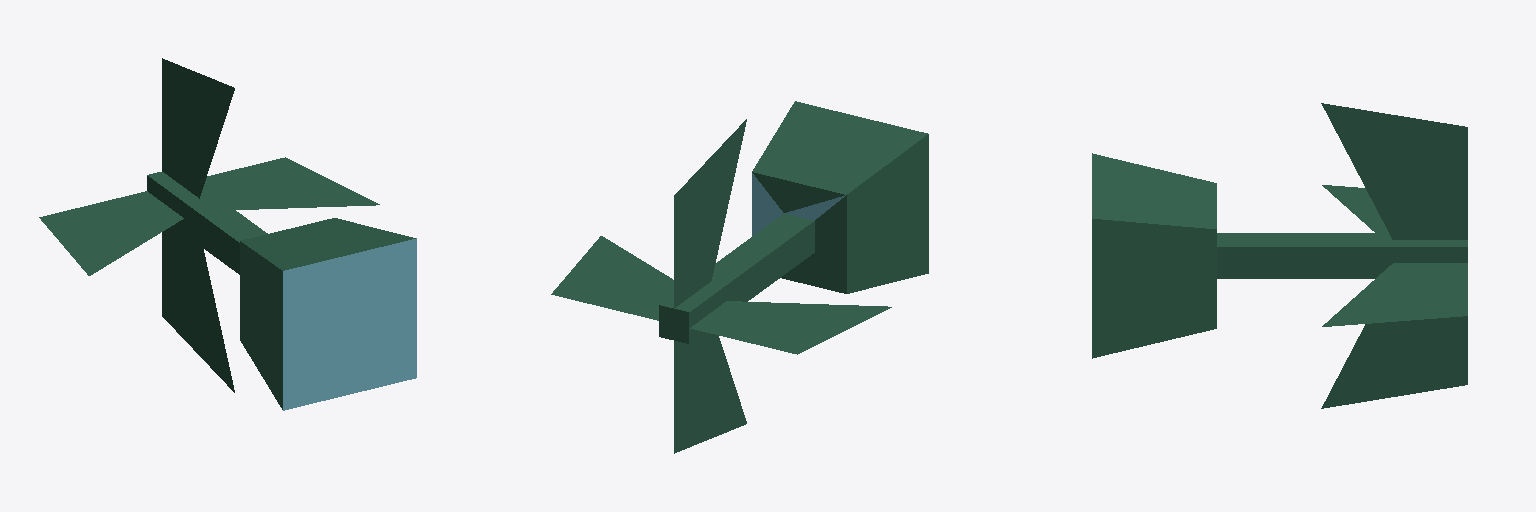
The model's file is flower5.obj.
The picture shows the model from 3 angles: view 1: azimuth 30°, elevation 25°; view 2: azimuth 150°, elevation 25°; view 3: azimuth 270°, elevation 25°; orthographic projection.
Visible parts, largest first — view 1: Mesh1_Flower_Tall_Yellow_Model, Mesh5_Flower_Tall_Yellow_Model, Mesh4_Flower_Tall_Yellow_Model, Mesh2_Flower_Tall_Yellow_Model, Mesh3_Flower_Tall_Yellow_Model; view 2: Mesh1_Flower_Tall_Yellow_Model, Mesh5_Flower_Tall_Yellow_Model, Mesh4_Flower_Tall_Yellow_Model, Mesh2_Flower_Tall_Yellow_Model, Mesh3_Flower_Tall_Yellow_Model; view 3: Mesh1_Flower_Tall_Yellow_Model, Mesh5_Flower_Tall_Yellow_Model, Mesh2_Flower_Tall_Yellow_Model, Mesh3_Flower_Tall_Yellow_Model, Mesh4_Flower_Tall_Yellow_Model.
Part boxes in pixels (x1,y1,x2,y2): Mesh1_Flower_Tall_Yellow_Model: (147, 172, 416, 410); Mesh5_Flower_Tall_Yellow_Model: (162, 58, 234, 198); Mesh4_Flower_Tall_Yellow_Model: (39, 191, 183, 275); Mesh2_Flower_Tall_Yellow_Model: (162, 226, 234, 392); Mesh3_Flower_Tall_Yellow_Model: (204, 157, 379, 209); Mesh1_Flower_Tall_Yellow_Model: (659, 101, 928, 343); Mesh5_Flower_Tall_Yellow_Model: (674, 119, 746, 307); Mesh4_Flower_Tall_Yellow_Model: (690, 301, 891, 354); Mesh2_Flower_Tall_Yellow_Model: (674, 333, 746, 453); Mesh3_Flower_Tall_Yellow_Model: (551, 236, 673, 320); Mesh1_Flower_Tall_Yellow_Model: (1092, 153, 1467, 358); Mesh5_Flower_Tall_Yellow_Model: (1321, 103, 1467, 239); Mesh2_Flower_Tall_Yellow_Model: (1321, 316, 1467, 408); Mesh3_Flower_Tall_Yellow_Model: (1322, 263, 1467, 326); Mesh4_Flower_Tall_Yellow_Model: (1322, 185, 1388, 232).
Bounding box in the file's own units: 2.29 × 2.29 × 2.55.